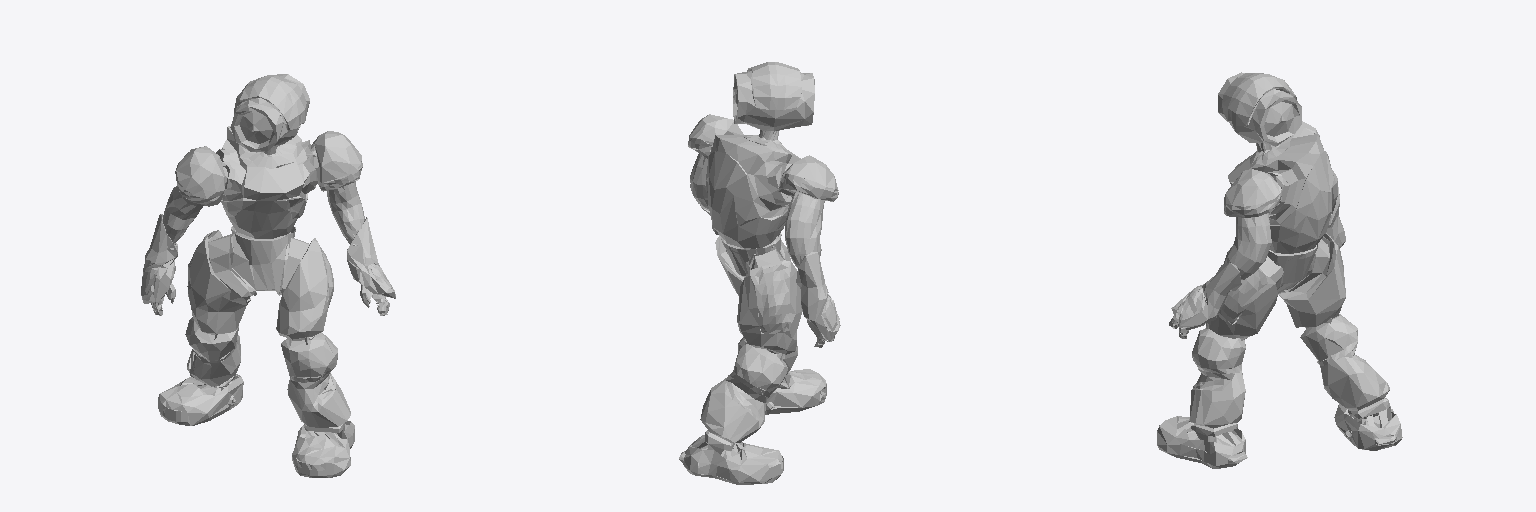
The model's file is idle5.obj.
3 views of the same model, side by side, from view 1: azimuth 30°, elevation 25°; view 2: azimuth 150°, elevation 25°; view 3: azimuth 270°, elevation 25° (orthographic).
Parts seen in each view (by area): view 1: Robot2.000_Robot2Mesh.000, Robot2.001_Robot2Mesh.002, Robot2.002_Robot2Mesh.003; view 2: Robot2.000_Robot2Mesh.000, Robot2.001_Robot2Mesh.002, Robot2.002_Robot2Mesh.003; view 3: Robot2.000_Robot2Mesh.000, Robot2.001_Robot2Mesh.002, Robot2.002_Robot2Mesh.003.
Part boxes in pixels (bbox=[...]): Robot2.000_Robot2Mesh.000: bbox=[141, 74, 395, 477]; Robot2.001_Robot2Mesh.002: bbox=[141, 75, 394, 475]; Robot2.002_Robot2Mesh.003: bbox=[163, 142, 364, 290]; Robot2.000_Robot2Mesh.000: bbox=[679, 71, 840, 484]; Robot2.001_Robot2Mesh.002: bbox=[688, 62, 839, 478]; Robot2.002_Robot2Mesh.003: bbox=[690, 130, 824, 277]; Robot2.000_Robot2Mesh.000: bbox=[1157, 72, 1402, 468]; Robot2.001_Robot2Mesh.002: bbox=[1169, 73, 1365, 438]; Robot2.002_Robot2Mesh.003: bbox=[1224, 142, 1337, 293].
Size of the model in its own units: 1.05 by 2.01 by 1.22.